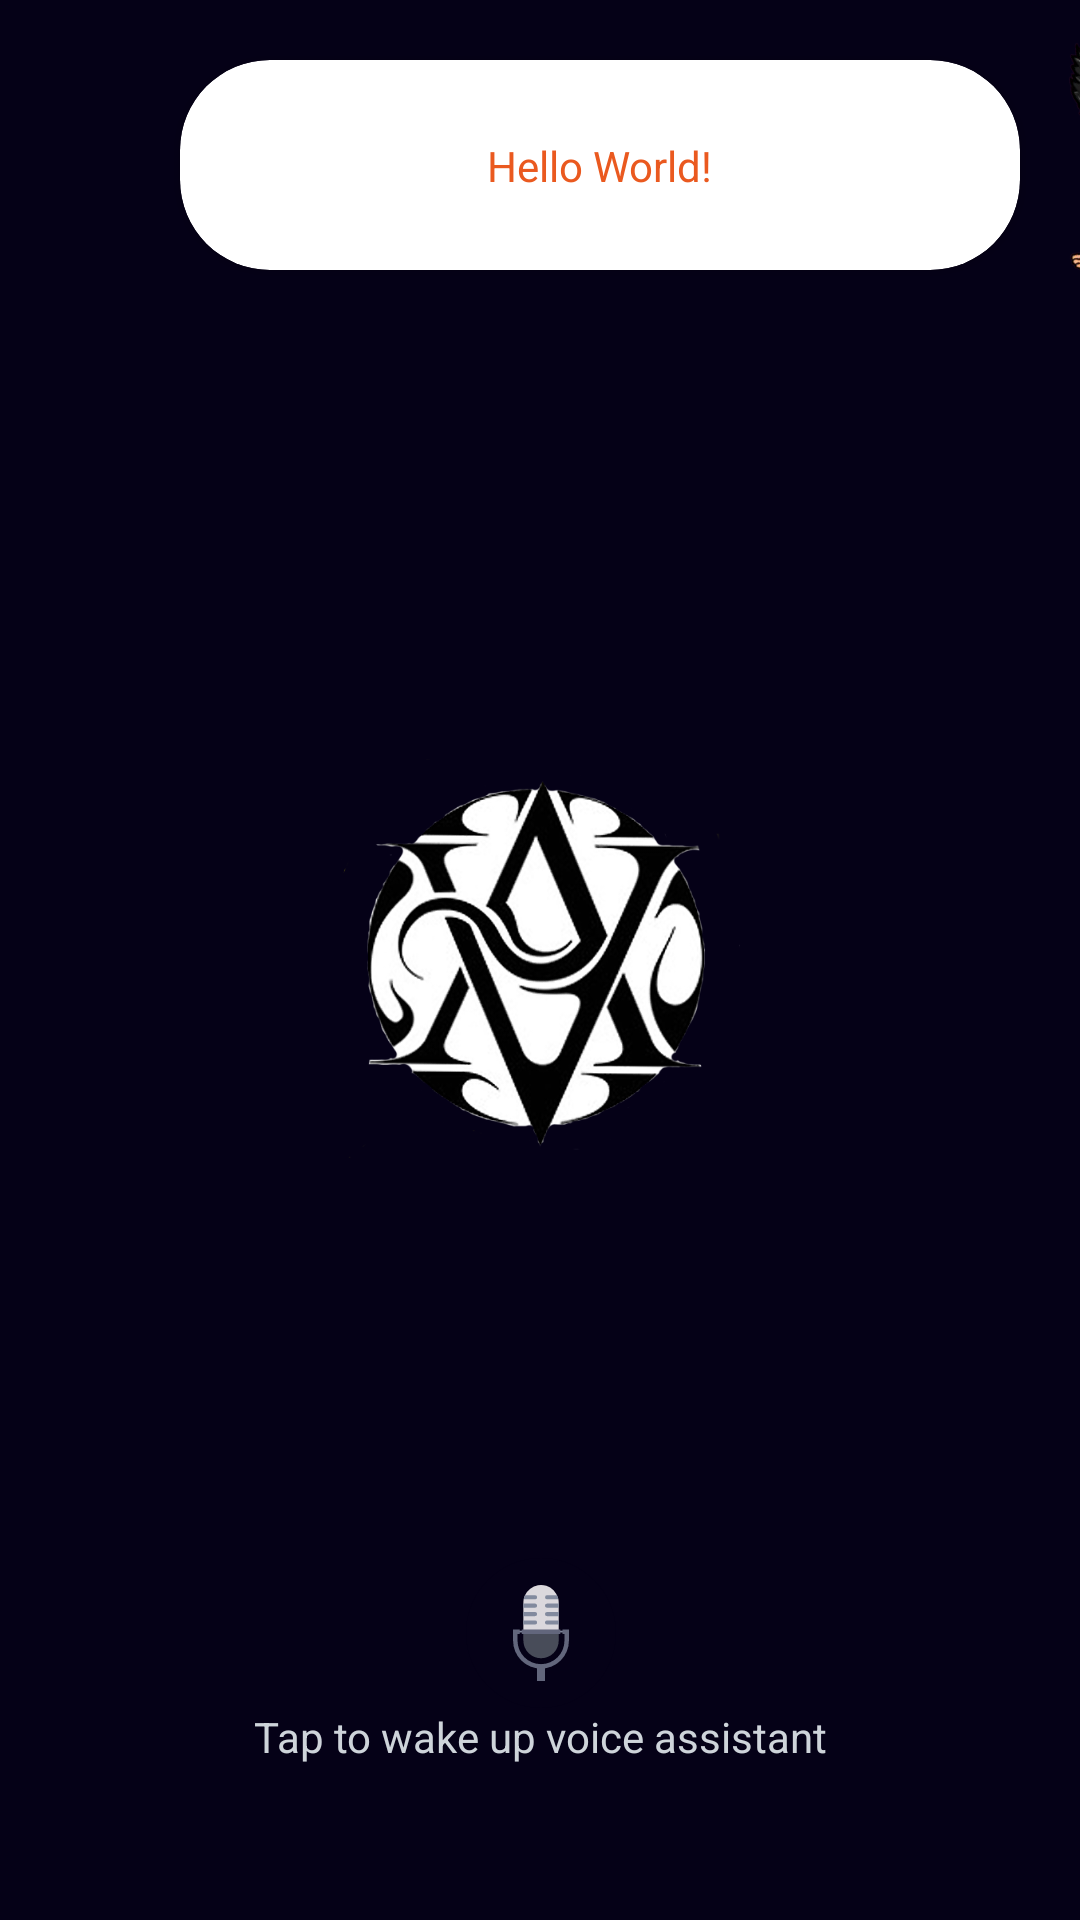

Icon bounding boxes for this 1080*1920 phone screenshot, format [x1, y1, x2, y2]:
microphone: [513, 1585, 569, 1681]
